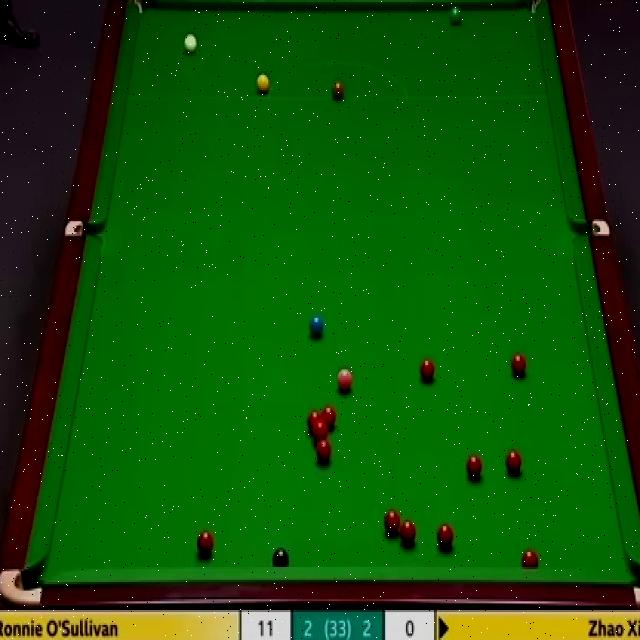black-ball: (272, 547, 292, 569)
blue-ball: (308, 314, 326, 336)
brown-ball: (332, 77, 344, 99)
green-ball: (448, 6, 463, 27)
pink-ball: (336, 368, 354, 395)
red-ball: (195, 528, 214, 558), (465, 454, 485, 482), (400, 516, 417, 548), (436, 524, 455, 552), (419, 354, 436, 384), (383, 510, 401, 536), (506, 449, 524, 475), (314, 438, 331, 464), (510, 352, 526, 379), (307, 410, 322, 437), (322, 405, 336, 431), (520, 548, 540, 566), (313, 424, 329, 445)
white-ball: (184, 34, 198, 56)
yellow-ball: (255, 75, 269, 93)
